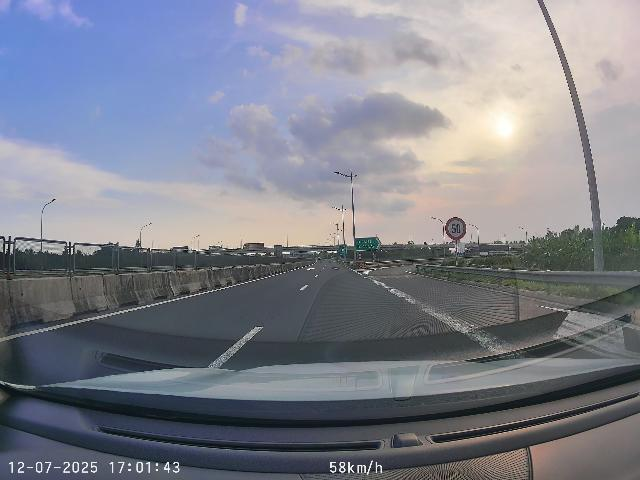127-toc-do-toi-da-50: (445, 217, 467, 240)
